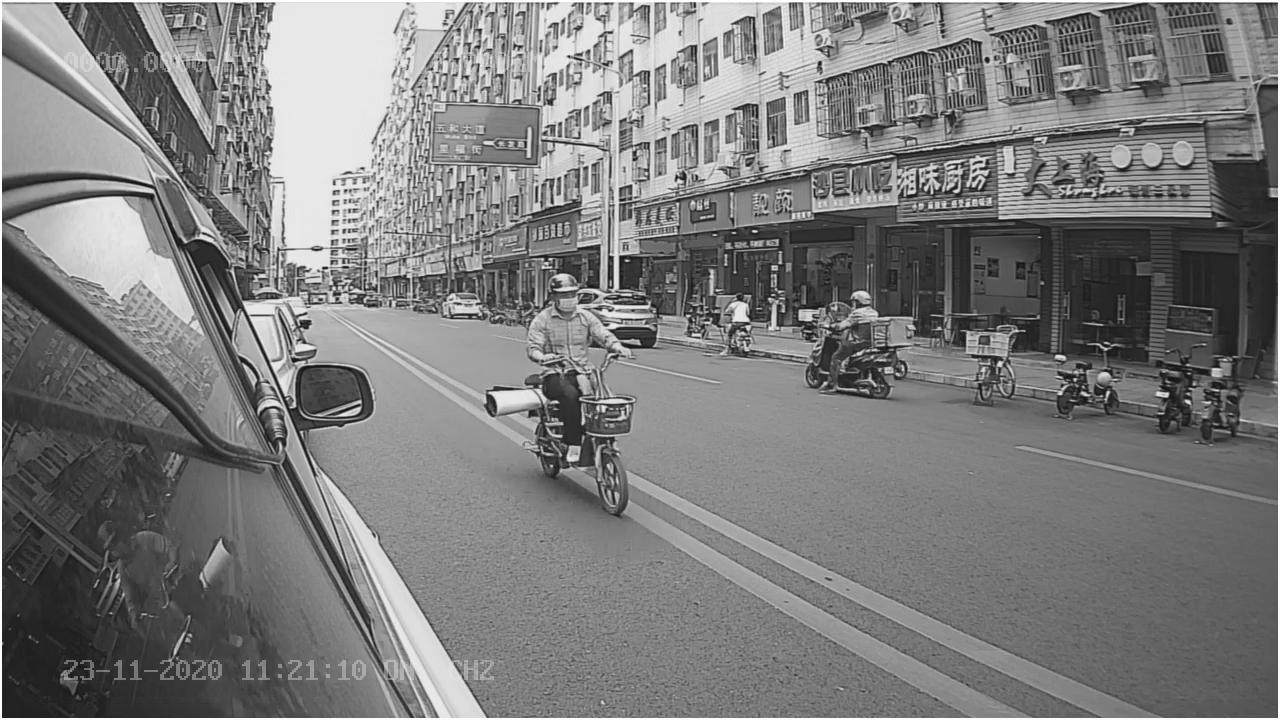person: (525, 271, 633, 367)
